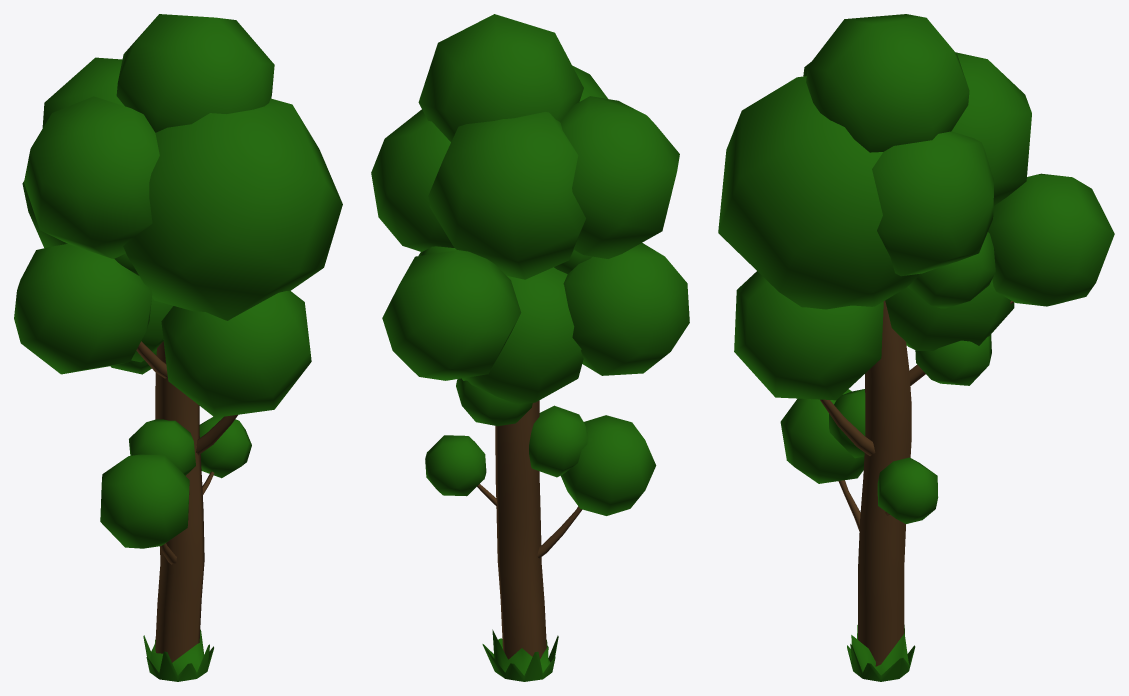
Rendered from TREE.fbx.
The picture shows the model from 3 angles, left to right: view 1: azimuth 30°, elevation 25°; view 2: azimuth 150°, elevation 25°; view 3: azimuth 270°, elevation 25°; orthographic projection. The views are drawn at different scales.
Parts seen in each view (by area): view 1: Sphere; view 2: Sphere; view 3: Sphere.
Boxes of the visible parts, x1,y1,x2,y2 form: Sphere: (14, 14, 342, 681); Sphere: (371, 14, 689, 681); Sphere: (718, 14, 1114, 681).
Bounding box in the file's own units: 679 × 1500 × 816.
